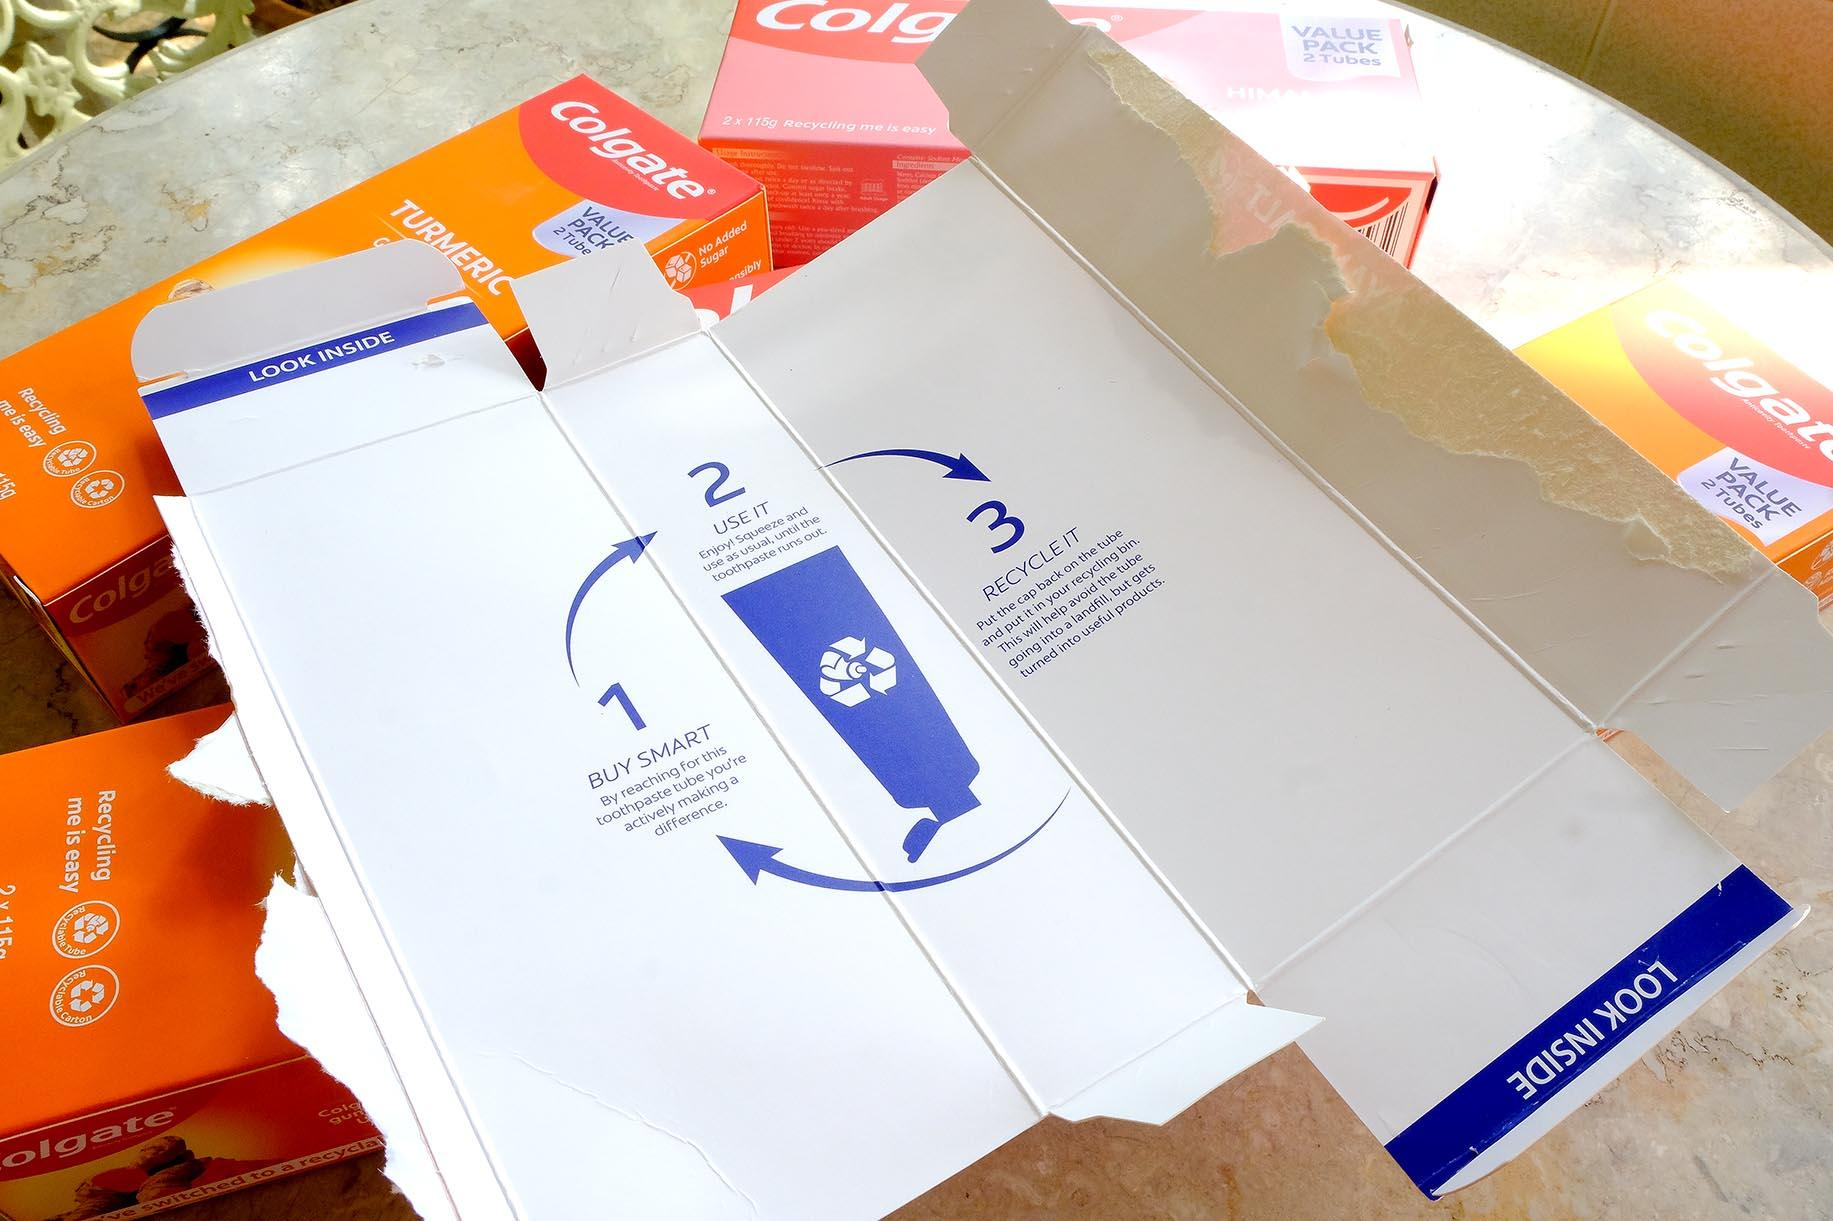paper: (0, 0, 1832, 1220)
